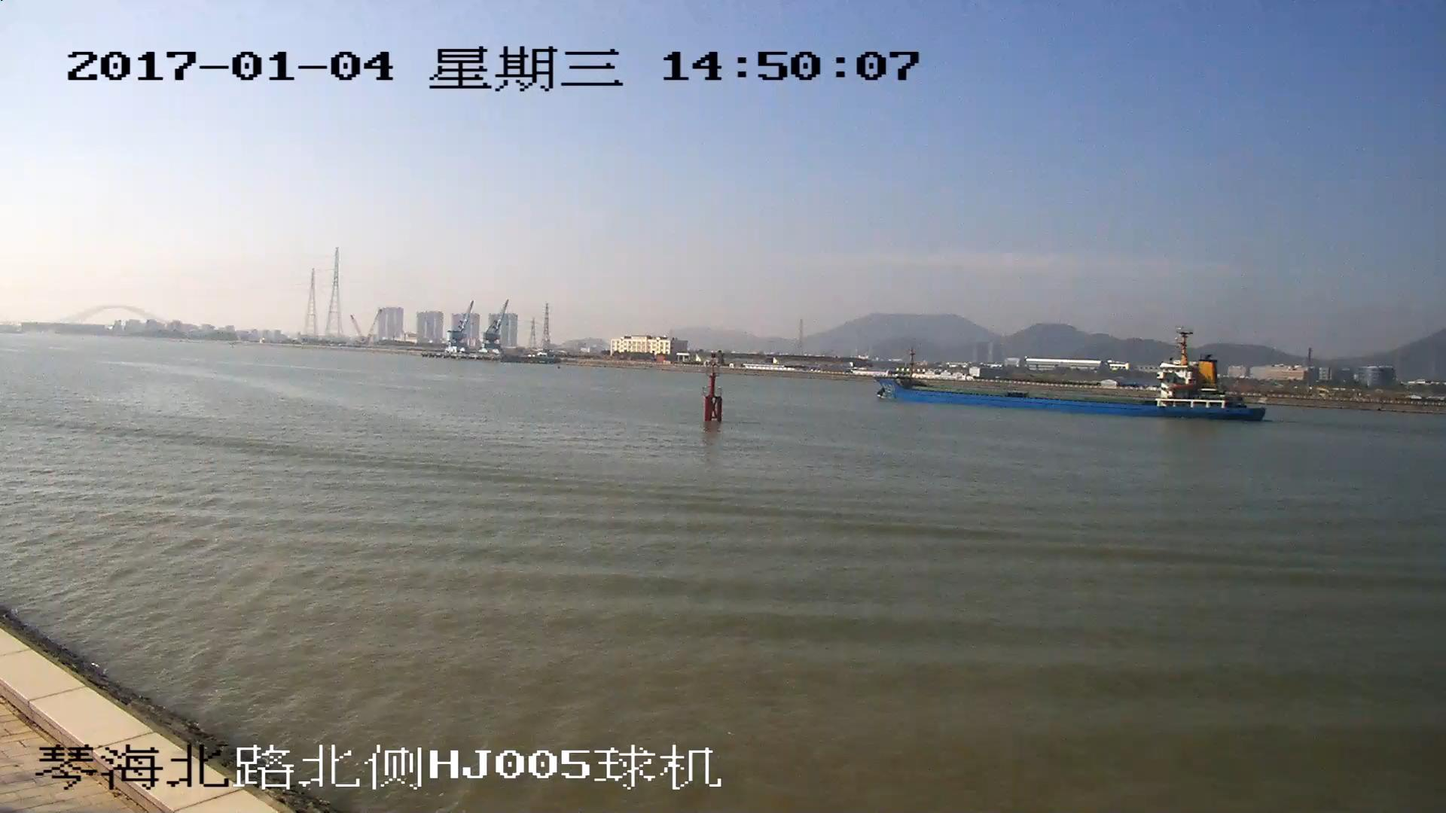general cargo ship: (874, 329, 1267, 422)
